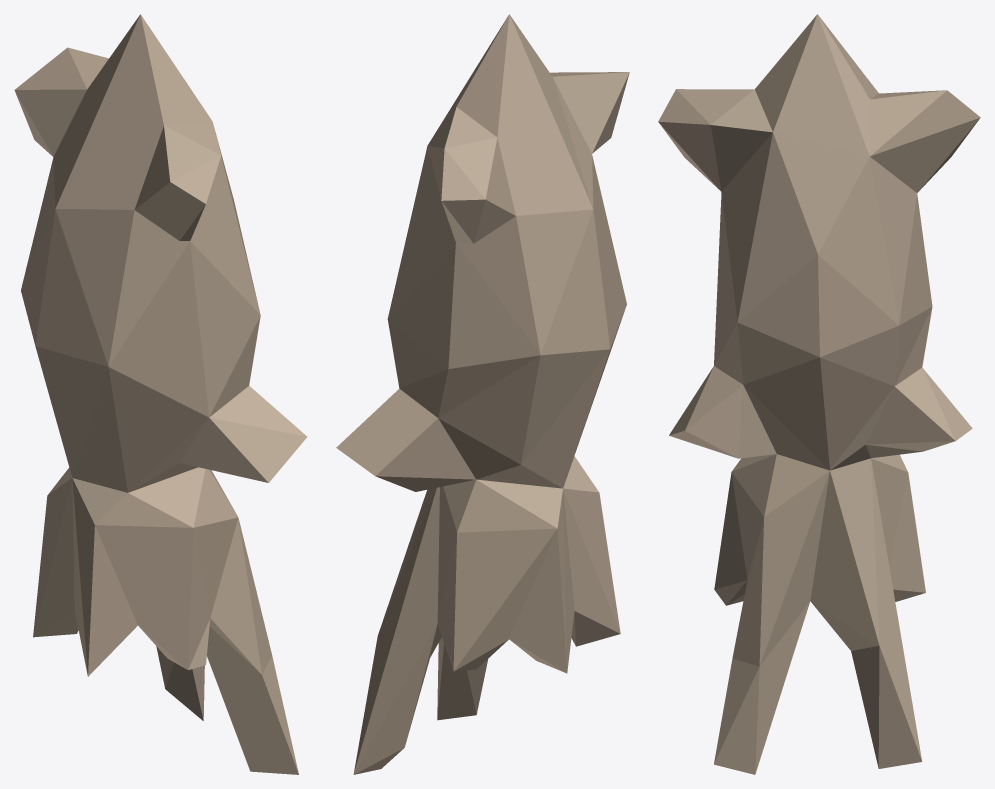
3 renders of one model, left to right at view 1: azimuth 30°, elevation 25°; view 2: azimuth 150°, elevation 25°; view 3: azimuth 270°, elevation 25°, orthographic. The views are drawn at different scales.
Visible parts, largest first — view 1: part0; view 2: part0; view 3: part0.
Part boxes in pixels (<box>): part0: <box>14,14,307,774</box>; part0: <box>336,14,629,774</box>; part0: <box>658,14,980,774</box>.
Bounding box in the file's own units: 2.94 × 10.19 × 4.18.
